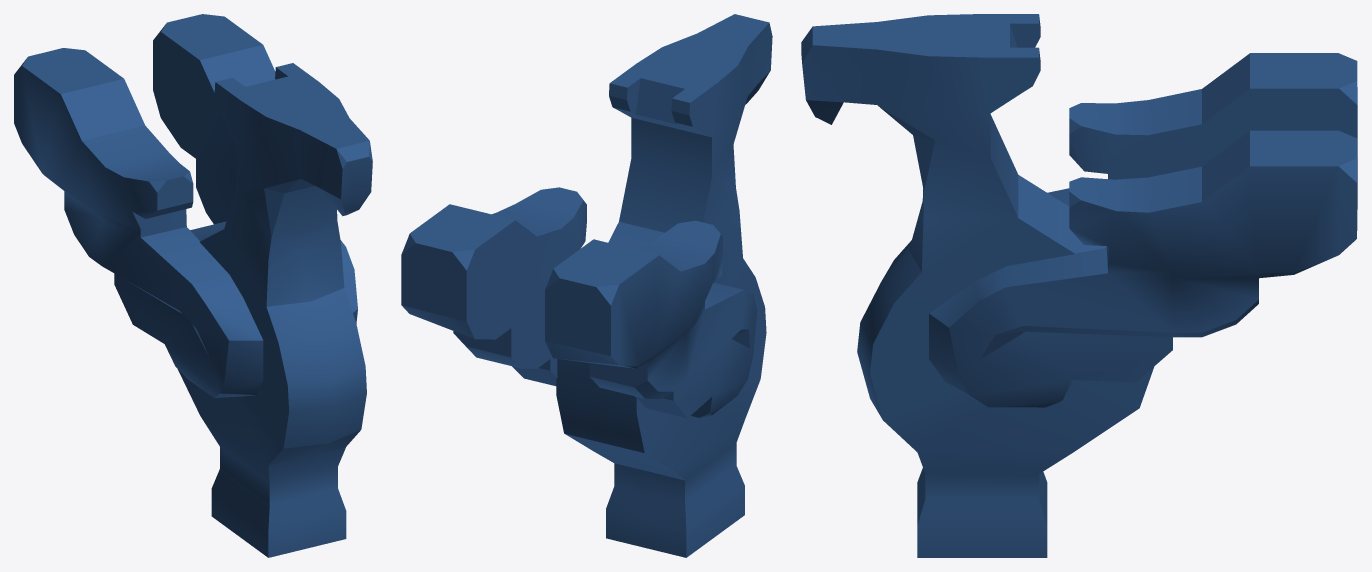
File: OBJ_Sculpture_05.FBX
The picture shows the model from 3 angles, left to right: view 1: azimuth 30°, elevation 25°; view 2: azimuth 150°, elevation 25°; view 3: azimuth 270°, elevation 25°; orthographic projection. The views are drawn at different scales.
Visible parts, largest first — view 1: OBJ_Sculpture_05; view 2: OBJ_Sculpture_05; view 3: OBJ_Sculpture_05.
Part boxes in pixels (x1=…): OBJ_Sculpture_05: x1=14, y1=14, x2=372, y2=557; OBJ_Sculpture_05: x1=401, y1=14, x2=772, y2=557; OBJ_Sculpture_05: x1=801, y1=14, x2=1357, y2=557.
Bounding box in the file's own units: 6.37 × 13.13 × 13.23.
